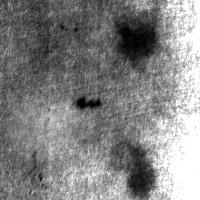patches: (24, 0, 180, 151), (2, 89, 78, 165), (116, 14, 158, 70), (113, 142, 154, 199)
